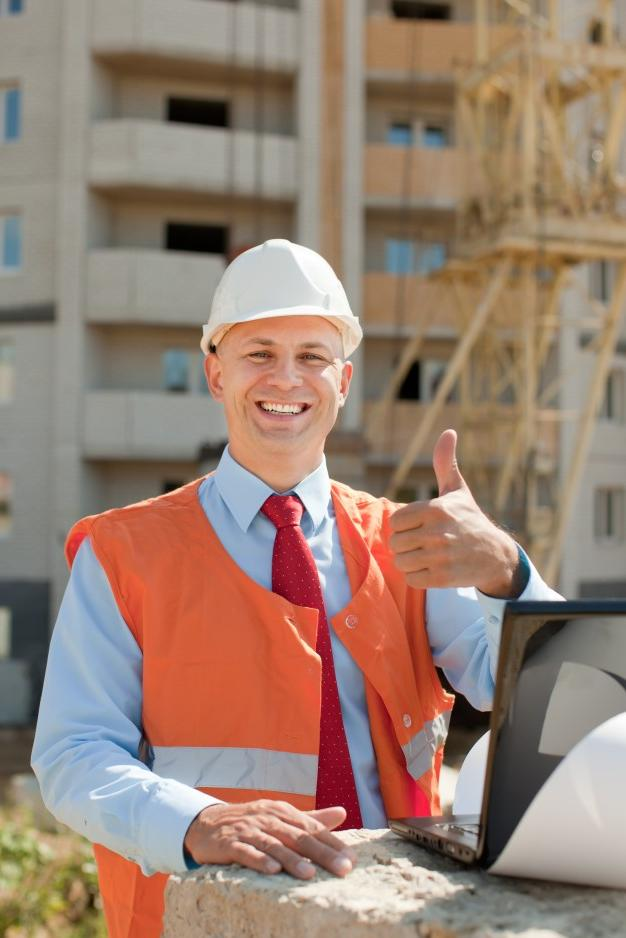thumbsup: (389, 428, 469, 589)
